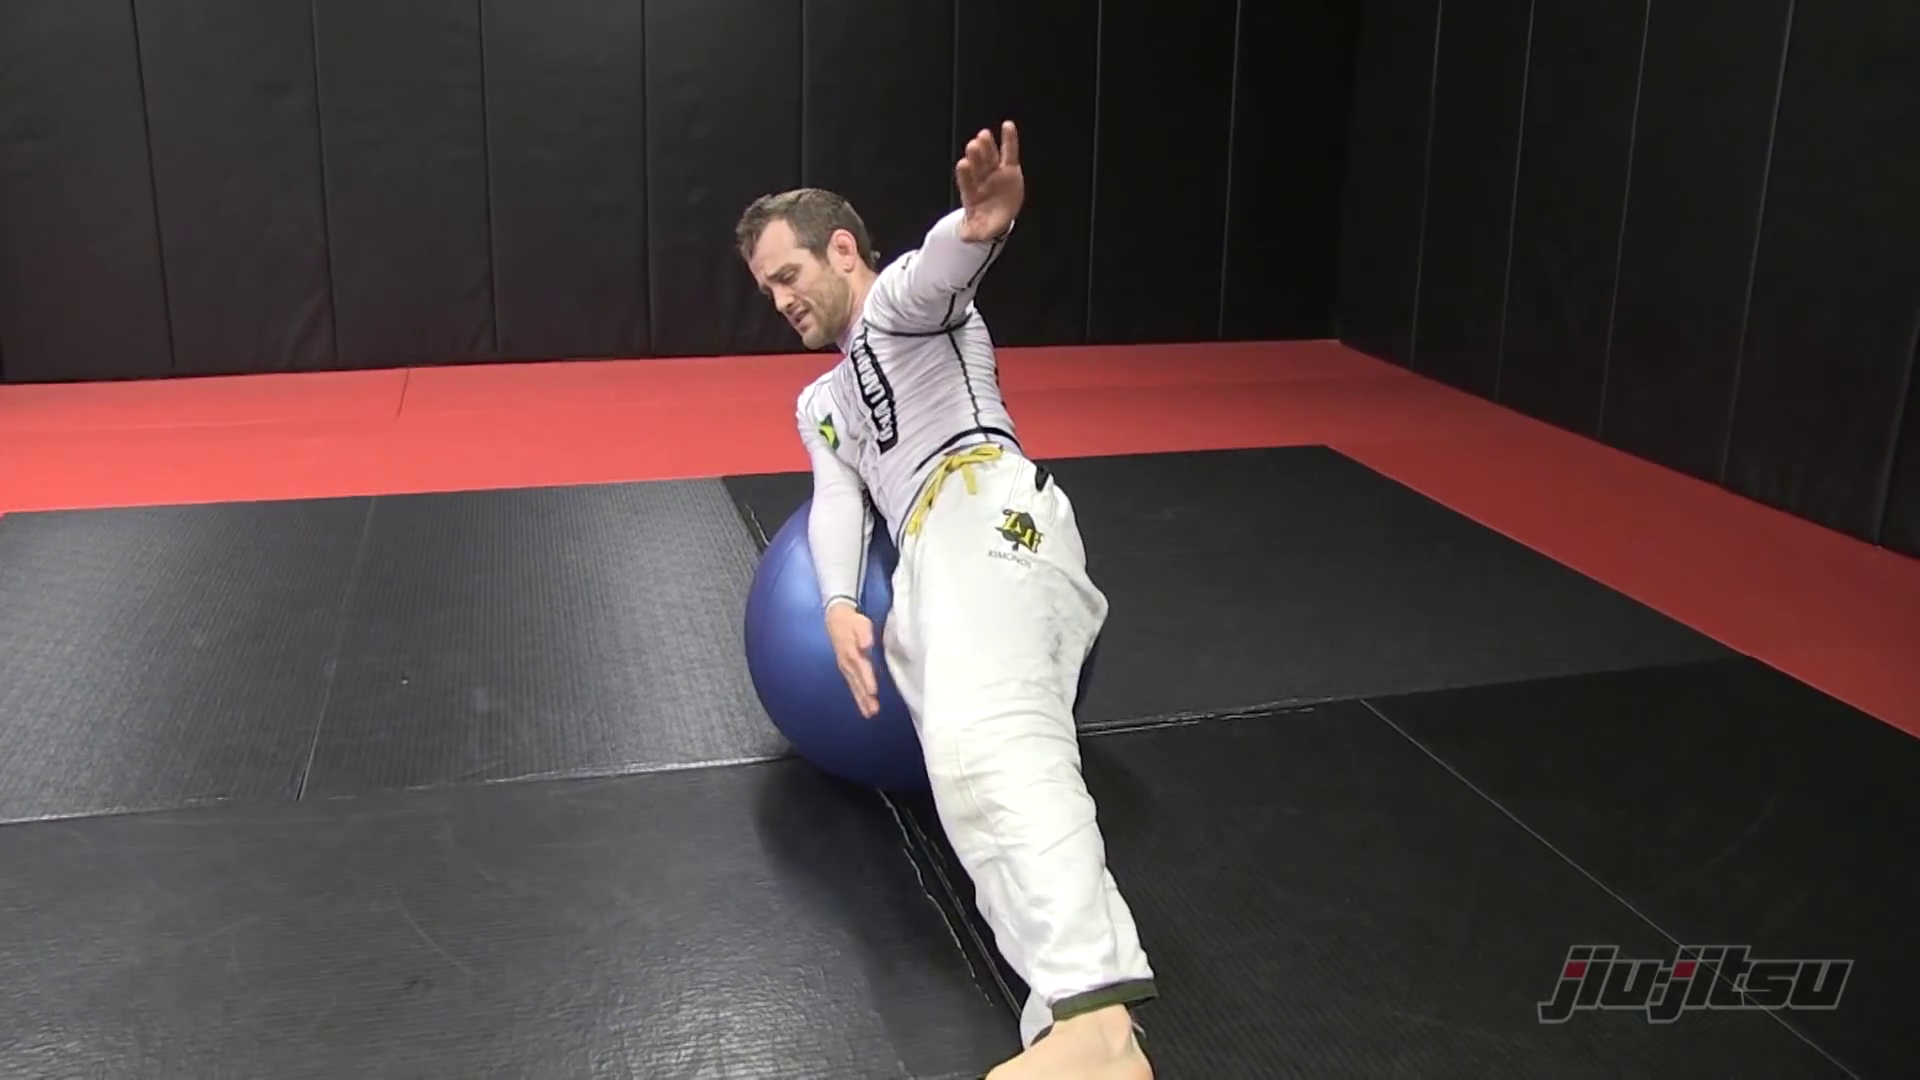yogaball: (724, 495, 1030, 816)
